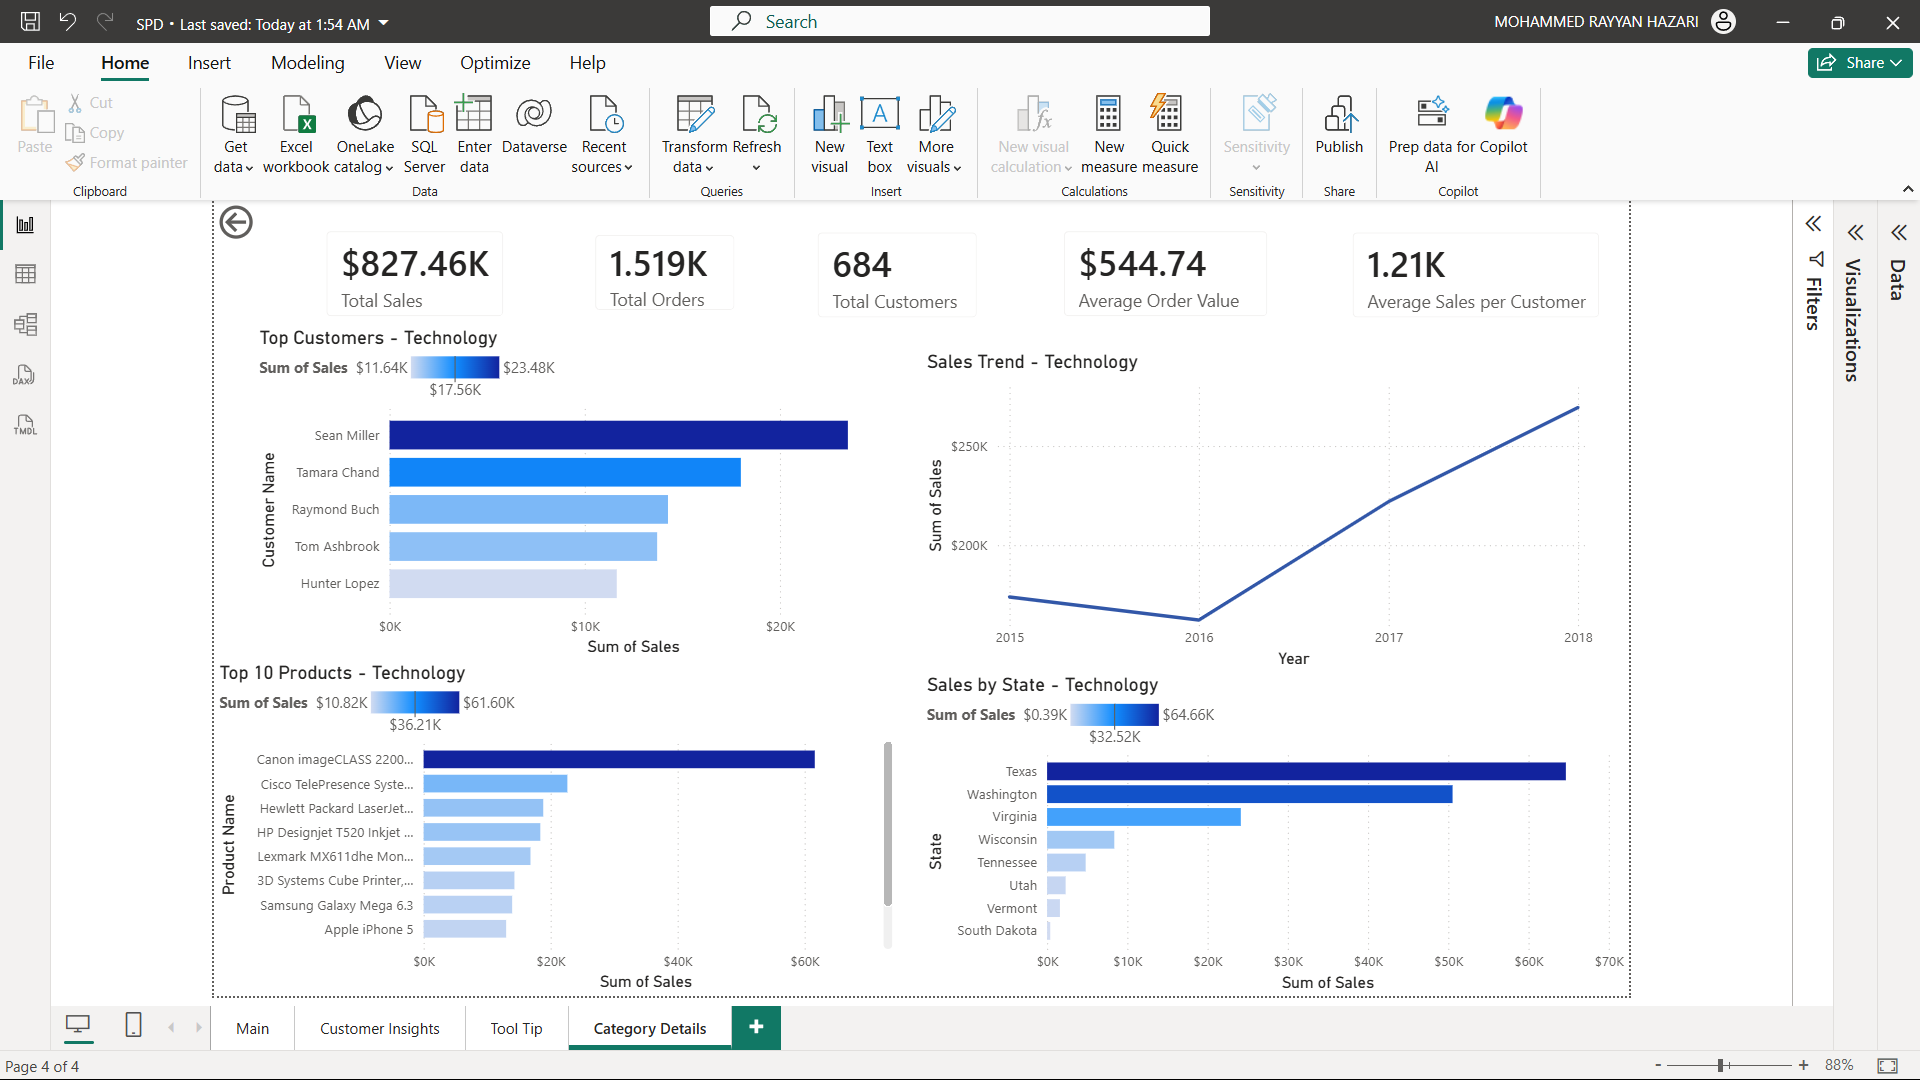

The dashboard page shown, as its layout file describes it:
{"tool":"powerbi","page":{"name":"Category Details","canvas":[1280,720],"ordinal":3},"visuals":[{"type":"actionButton","box":[0,0,100,40],"z":0},{"type":"cardVisual","fields":{"Data":["Sum(train.Sales)"]},"box":[85.1,11,194.9,111.1],"z":1000},{"type":"cardVisual","fields":{"Data":["Count(train.Order ID)"]},"box":[328,15.1,160.5,102.9],"z":2000},{"type":"cardVisual","fields":{"Data":["Count(train.Customer ID)"]},"box":[529.7,12.3,178.4,111.1],"z":3000},{"type":"cardVisual","fields":{"Data":["train.Average Order Value"]},"box":[752,11,218.2,111.1],"z":4000},{"type":"lineChart","fields":{"Category":["train.Order Date.Variation.Date Hierarchy.Year"],"Y":["Sum(train.Sales)"]},"box":[639.5,135.8,612,292.3],"z":5000},{"type":"clusteredBarChart","fields":{"Category":["train.Product Name"],"Y":["Sum(train.Sales)"]},"box":[0,417.2,618.9,303.3],"z":6000},{"type":"clusteredBarChart","fields":{"Category":["train.Customer Name"],"Y":["Sum(train.Sales)"]},"box":[35.7,113.9,583.2,303.3],"z":7000},{"type":"clusteredBarChart","fields":{"Y":["Sum(train.Sales)"],"Category":["train.State"]},"box":[639.5,428.1,640.8,292.3],"z":8000},{"type":"cardVisual","fields":{"Data":["train.Average Sales per Customer"]},"box":[1012.7,12.3,258,111.1],"z":9000}]}

Visuals, with their boxes on the page's 1280x720 design canvas (x1, y1, x2, y2). These are canvas units, not pixel positions in the 1920x1080 screenshot, which may show the page scaled, cropped or inside an application window:
actionButton: 0:0:100:40
cardVisual - Sum(train.Sales): 85:11:280:122
cardVisual - Count(train.Order ID): 328:15:488:118
cardVisual - Count(train.Customer ID): 530:12:708:123
cardVisual - train.Average Order Value: 752:11:970:122
lineChart - train.Order Date.Variation.Date Hierarchy.Year x Sum(train.Sales): 640:136:1252:428
clusteredBarChart - train.Product Name x Sum(train.Sales): 0:417:619:720
clusteredBarChart - train.Customer Name x Sum(train.Sales): 36:114:619:417
clusteredBarChart - Sum(train.Sales) x train.State: 640:428:1280:720
cardVisual - train.Average Sales per Customer: 1013:12:1271:123
